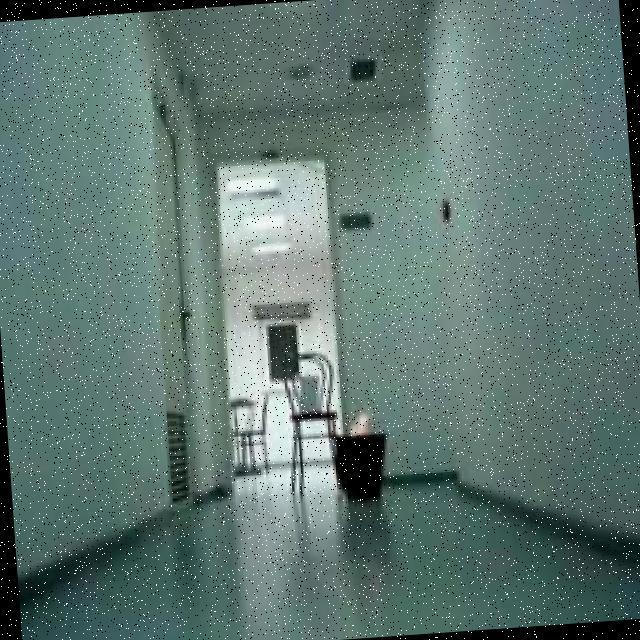Fire: (350, 403, 382, 433)
